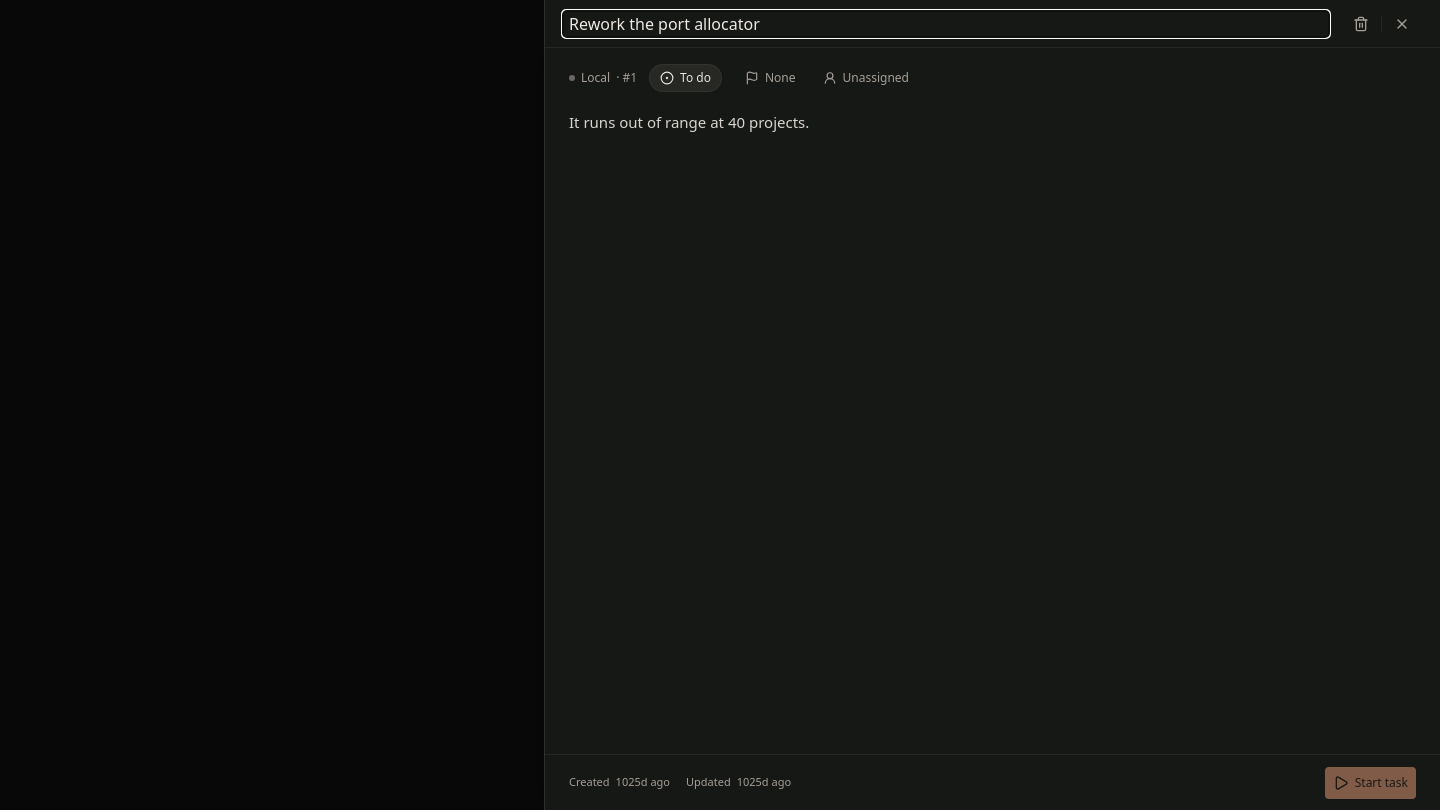
Test: WorkItemDrawer › keeps the item when the confirmation is cancelled
Click the button named "Delete work item" at (1361, 24), box [1347,10,1375,38]
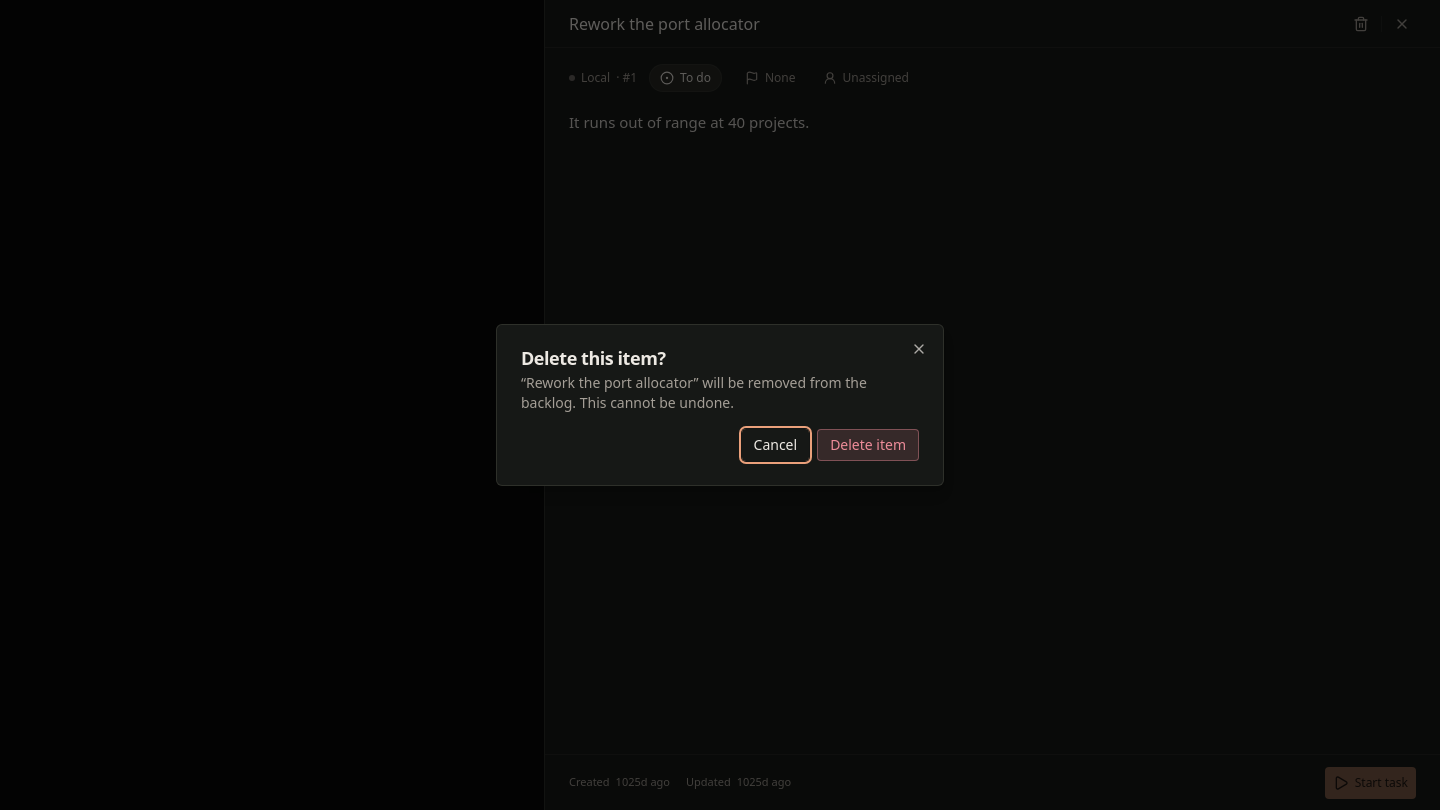
Click the button "Cancel" at (775, 445), box [742,429,809,461]
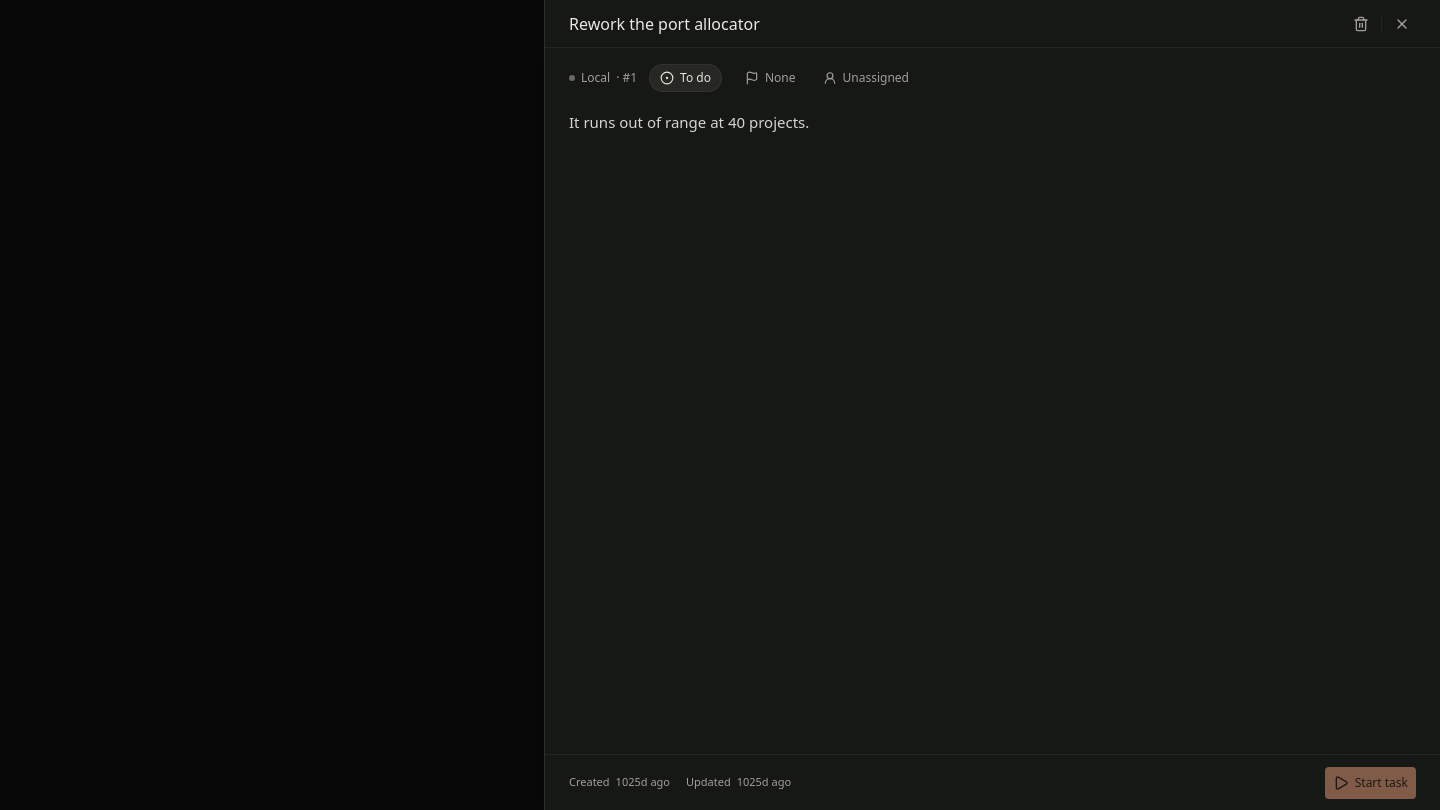
Now the text "will be removed from the backlog" is gone
